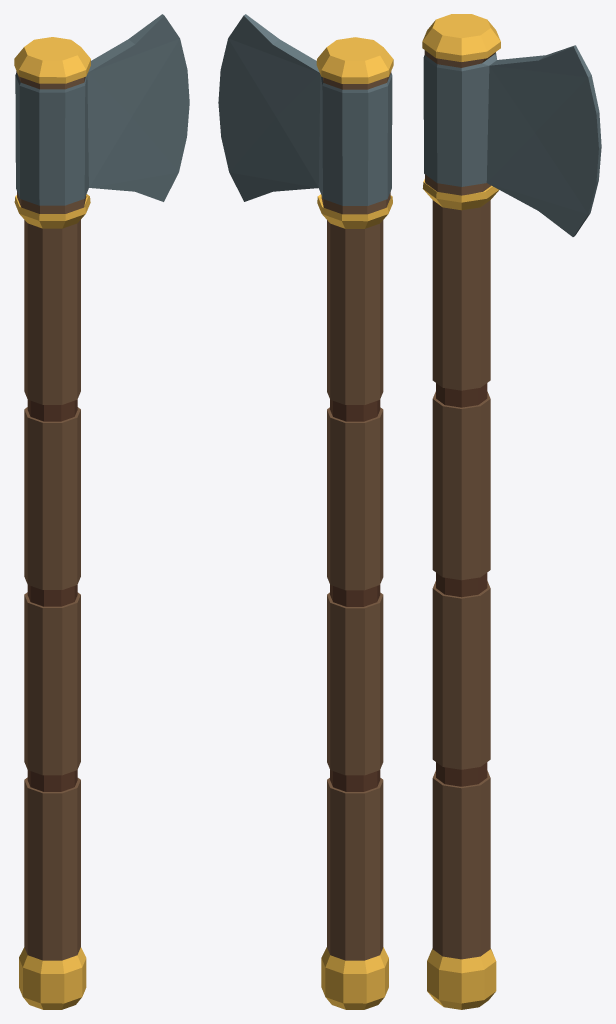
File: Machado.fbx
The picture shows the model from 3 angles, left to right: view 1: azimuth 30°, elevation 25°; view 2: azimuth 150°, elevation 25°; view 3: azimuth 330°, elevation 25°; orthographic projection. The views are drawn at different scales.
Visible parts, largest first — view 1: Cube; view 2: Cube; view 3: Cube.
Part boxes in pixels (x1=…): Cube: x1=14, y1=14, x2=189, y2=1009; Cube: x1=218, y1=14, x2=393, y2=1009; Cube: x1=422, y1=14, x2=601, y2=1009.
Bounding box in the file's own units: 41.76 × 226 × 16.39.
